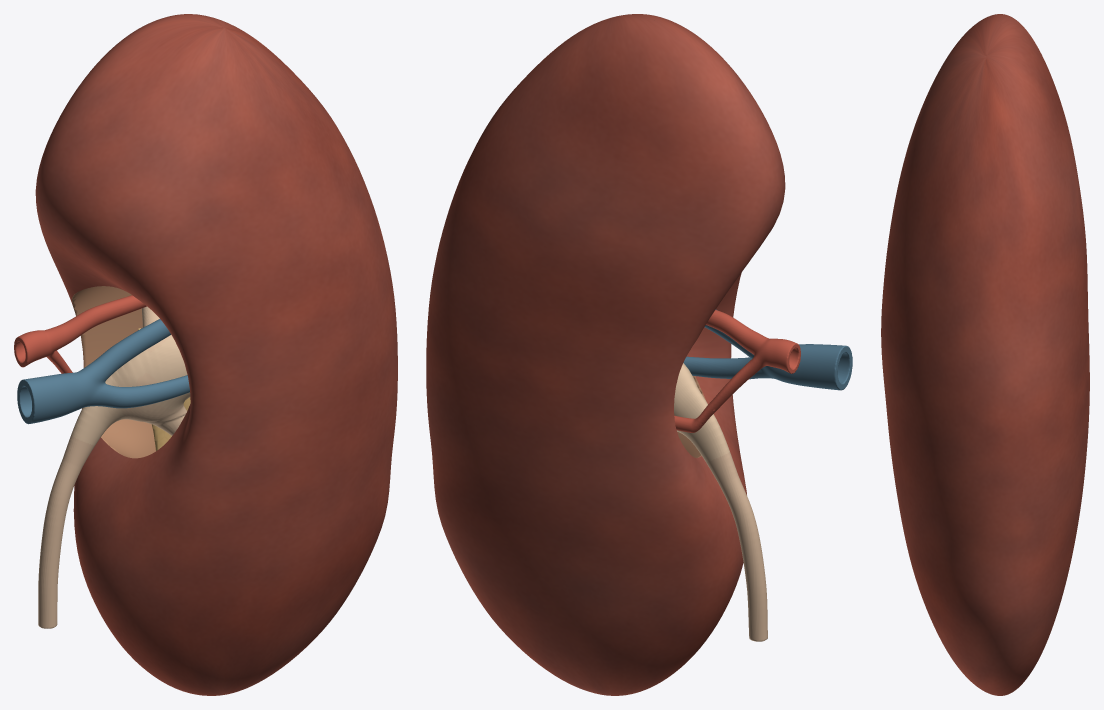
File: medial-before.glb
3 views of the same model, side by side, from view 1: azimuth 30°, elevation 25°; view 2: azimuth 150°, elevation 25°; view 3: azimuth 270°, elevation 25° (orthographic). The views are drawn at different scales.
Visible parts, largest first — view 1: PREVIEW_BEFORE.CORTEX_L.anterior, PREVIEW_BEFORE.CORTEX_L.posterior, VEIN_L, URETER_L, PELVIS_L, ARTERY_L, MAJOR_CALYX_L.03; view 2: PREVIEW_BEFORE.CORTEX_L.posterior, PREVIEW_BEFORE.CORTEX_L.anterior, VEIN_L, URETER_L, ARTERY_L, PELVIS_L; view 3: PREVIEW_BEFORE.CORTEX_L.anterior, PREVIEW_BEFORE.CORTEX_L.posterior.
Part boxes in pixels (<box>): PREVIEW_BEFORE.CORTEX_L.anterior: <box>44,16,397,695</box>; PREVIEW_BEFORE.CORTEX_L.posterior: <box>35,14,238,664</box>; VEIN_L: <box>17,319,189,424</box>; URETER_L: <box>38,435,95,628</box>; PELVIS_L: <box>71,336,190,445</box>; ARTERY_L: <box>14,295,146,373</box>; MAJOR_CALYX_L.03: <box>121,403,187,435</box>; PREVIEW_BEFORE.CORTEX_L.posterior: <box>426,16,778,695</box>; PREVIEW_BEFORE.CORTEX_L.anterior: <box>578,14,785,664</box>; VEIN_L: <box>683,309,852,390</box>; URETER_L: <box>706,452,767,641</box>; ARTERY_L: <box>674,310,800,432</box>; PELVIS_L: <box>674,363,729,461</box>; PREVIEW_BEFORE.CORTEX_L.anterior: <box>881,14,1000,695</box>; PREVIEW_BEFORE.CORTEX_L.posterior: <box>1000,14,1089,695</box>.
Bounding box in the file's own units: 0.0675 × 0.1144 × 0.0338.
12 materials, 5 textured.
